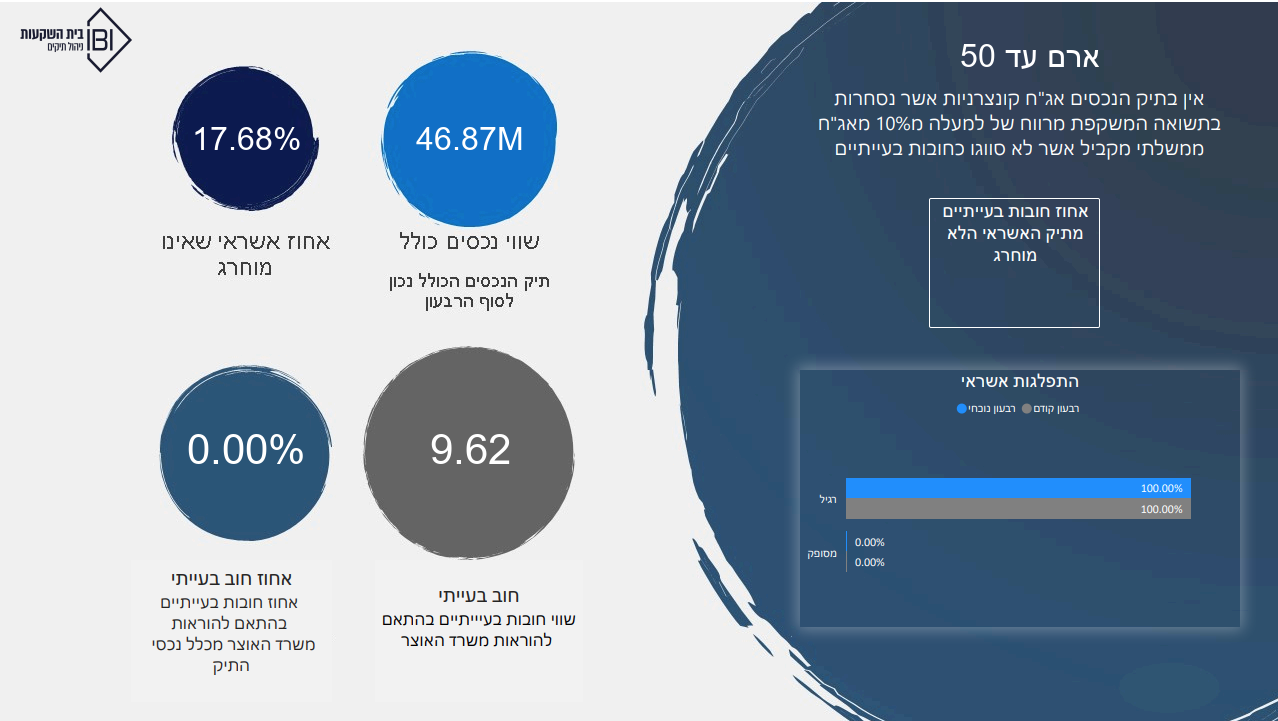

What the dashboard file says about the page in this screenshot:
{"tool":"powerbi","page":{"name":"ריכוז מנהלים 8357","canvas":[1280,720],"ordinal":2},"visuals":[{"type":"card","title":"תיק הנכסים הכולל נכון לסוף הרבעון","fields":{"Values":["Max(Sheet1.שווי תיק)"]},"box":[361.6,71.5,218.6,118.5],"z":0},{"type":"card","title":"אחוז אשראי שאינו מוחרג","fields":{"Values":["Sheet1.אחוז משווי תיק"]},"box":[161.5,77.8,170.2,117.7],"z":1000},{"type":"card","title":"שווי חובות בהשגחה בהתאם להוראות משרד האוצר","fields":{"Values":["Sheet1.שווי נייר נוסחא"]},"box":[335.6,391,280.1,117.7],"z":2000},{"type":"card","title":"אחוז חובות בהשגחה בהתאם להוראות משרד האוצר","fields":{"Values":["Sheet1.אחוז משווי תיק"]},"box":[107,391,280.1,117.7],"z":3000},{"type":"image","box":[0,0,152.4,76.2],"z":4000},{"type":"textbox","box":[801.5,77.8,436.7,100.2],"z":5000},{"type":"card","title":"אחוז חובות בעייתיים מתיק האשראי הלא מוחרג","fields":{"Values":["Sheet1.אחוז מאפיק נוסחא"]},"box":[928.9,195.5,171.2,130.3],"z":6000},{"type":"clusteredBarChart","title":"התפלגות אשראי","fields":{"Category":["סוג אגח.UserEnumsName"],"Y":["Sum(Sheet1.אחוז משווי תיק לפי שיערוך אחרון)","Sum(Lastq.אחוז משווי תיק לפי שיערוך אחרון)"]},"box":[799.5,367.7,440.6,257.8],"z":7000},{"type":"card","fields":{"Values":["Min(NumberTik.NameGroup)"]},"box":[799.5,0,480.5,72],"z":8000},{"type":"textbox","box":[152.7,550.5,201.3,149.8],"z":9000},{"type":"textbox","box":[372.5,563.2,190.6,137.1],"z":10000}]}

Visuals, with their boxes in screenshot pixels (x1, y1, x2, y2), scaled from the page's 1280x720 canvas onto the 1278x721 screenshot:
"תיק הנכסים הכולל נכון לסוף הרבעון" card: [x1=361, y1=72, x2=579, y2=190]
"אחוז אשראי שאינו מוחרג" card: [x1=161, y1=78, x2=331, y2=196]
"שווי חובות בהשגחה בהתאם להוראות משרד האוצר" card: [x1=335, y1=392, x2=615, y2=509]
"אחוז חובות בהשגחה בהתאם להוראות משרד האוצר" card: [x1=107, y1=392, x2=386, y2=509]
image: [x1=0, y1=0, x2=152, y2=76]
textbox: [x1=800, y1=78, x2=1236, y2=178]
"אחוז חובות בעייתיים מתיק האשראי הלא מוחרג" card: [x1=927, y1=196, x2=1098, y2=326]
"התפלגות אשראי" clusteredBarChart: [x1=798, y1=368, x2=1238, y2=626]
card - Min(NumberTik.NameGroup): [x1=798, y1=0, x2=1277, y2=72]
textbox: [x1=152, y1=551, x2=353, y2=701]
textbox: [x1=372, y1=564, x2=562, y2=701]
